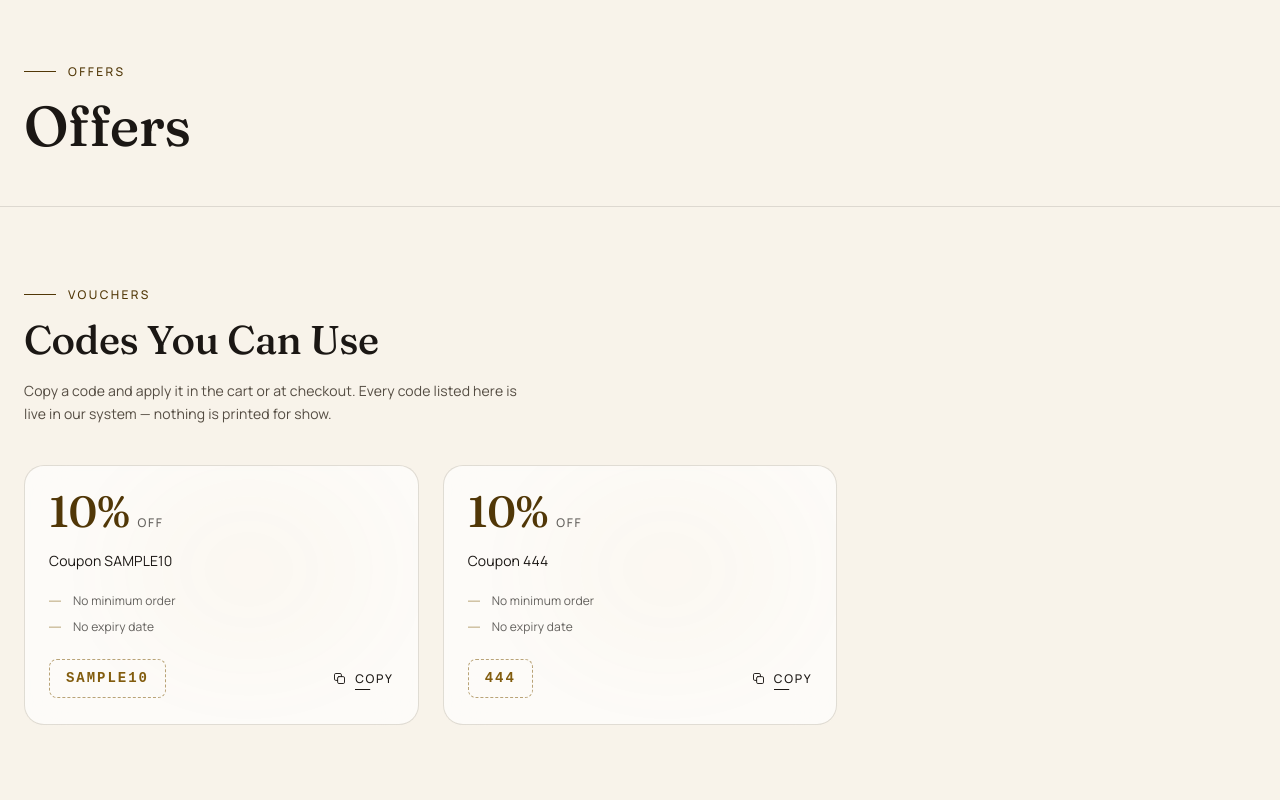
Test: the voucher Copy control › copies from the chip as well, and 'Copied' follows the last code copied
This screenshot has width=1280, height=800.
Click the button with aria-label "Copy coupon code SAMPLE10": [363, 678] box left=324, top=656, right=402, bottom=700
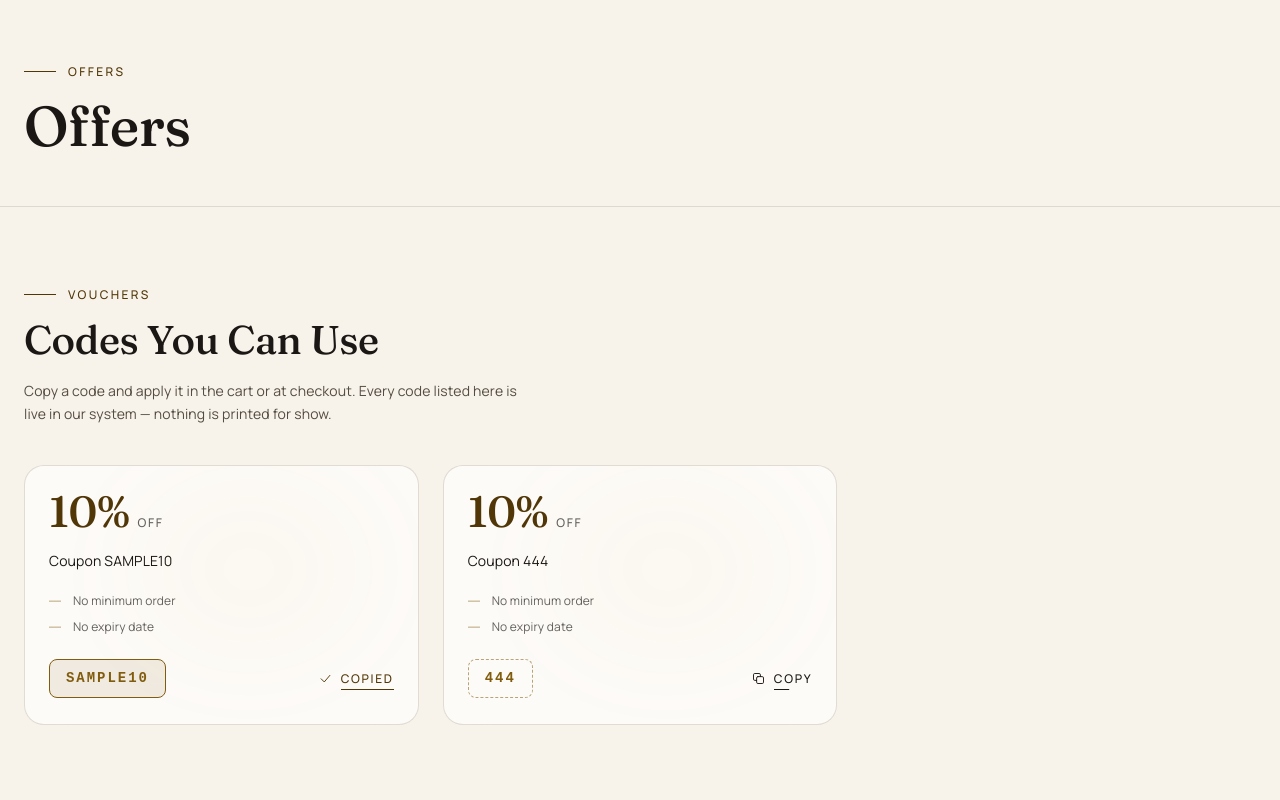
Result: the text "Copied" is shown at left=341, top=671, right=394, bottom=686
Result: the button with aria-label "Copy coupon code SAMPLE10" reads "Copied" at left=310, top=656, right=402, bottom=700
Click the text "444": [500, 678] box left=468, top=659, right=533, bottom=698
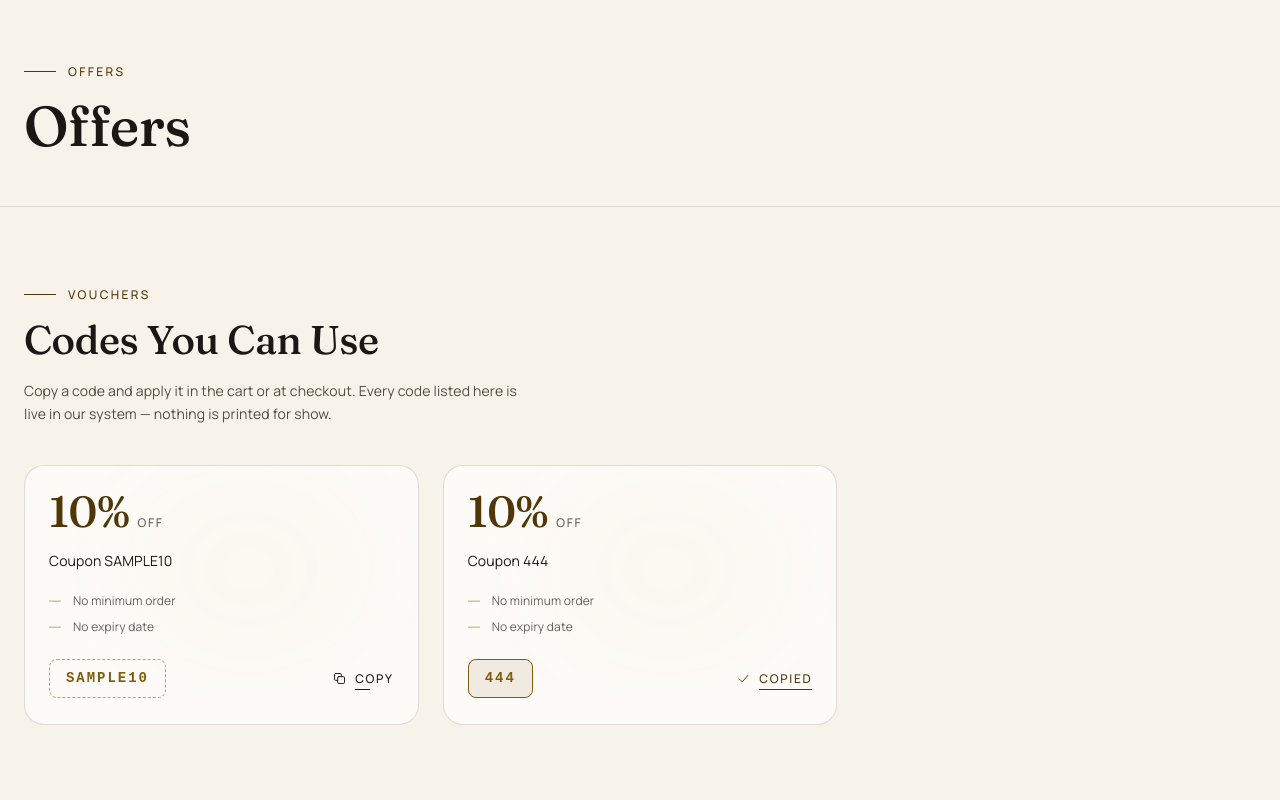
Expected: the button with aria-label "Copy coupon code SAMPLE10" does not show "Copied", left=324, top=656, right=402, bottom=700
Result: the button with aria-label "Copy coupon code 444" reads "Copied" at left=728, top=656, right=820, bottom=700
Result: the button with aria-label "Copy coupon code SAMPLE10" reads "Copy" at left=324, top=656, right=402, bottom=700
